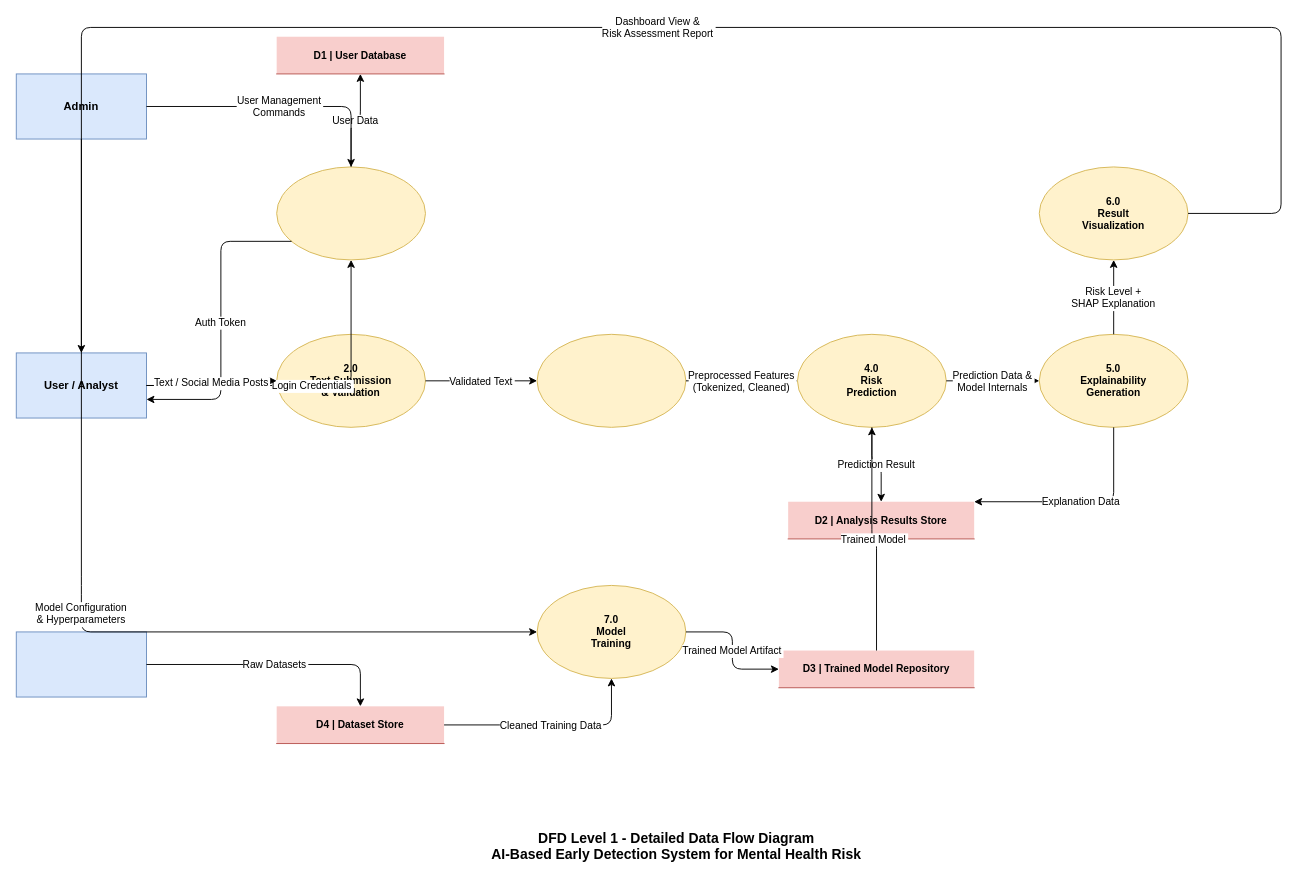
Image size: 1305x889. Some labels were removed from this diagram. Here are the shapes that lost their labels. From the top down, the box of each, then its label:
(276, 166, 425, 260): 1.0 User Authentication
(536, 333, 686, 427): 3.0 Text Preprocessing
(15, 631, 146, 697): Social Media Dataset Source
